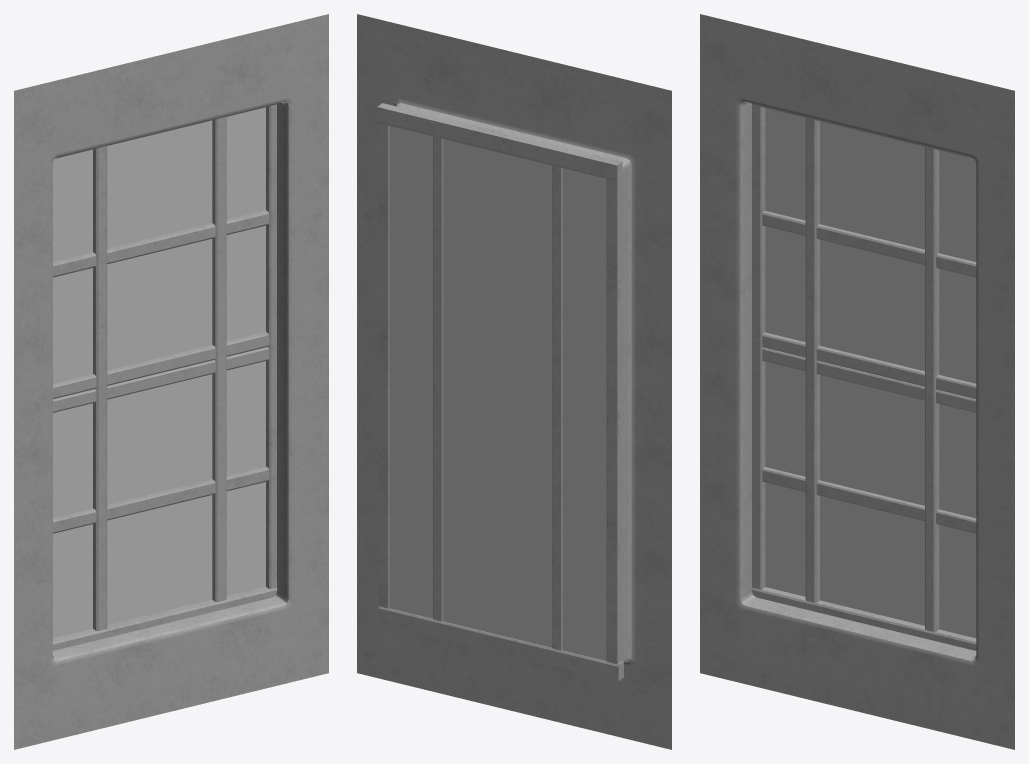
The model's file is SM_Wall4.fbx.
The picture shows the model from 3 angles, left to right: view 1: azimuth 30°, elevation 25°; view 2: azimuth 150°, elevation 25°; view 3: azimuth 330°, elevation 25°; orthographic projection.
Visible parts, largest first — view 1: SM_Wall4_LOD0; view 2: SM_Wall4_LOD0; view 3: SM_Wall4_LOD0.
Part boxes in pixels (left/top/right/bottom): SM_Wall4_LOD0: left=14, top=14, right=328, bottom=749; SM_Wall4_LOD0: left=357, top=14, right=671, bottom=749; SM_Wall4_LOD0: left=700, top=14, right=1014, bottom=749.
Size of the model in its own units: 300 by 26.39 by 600.
